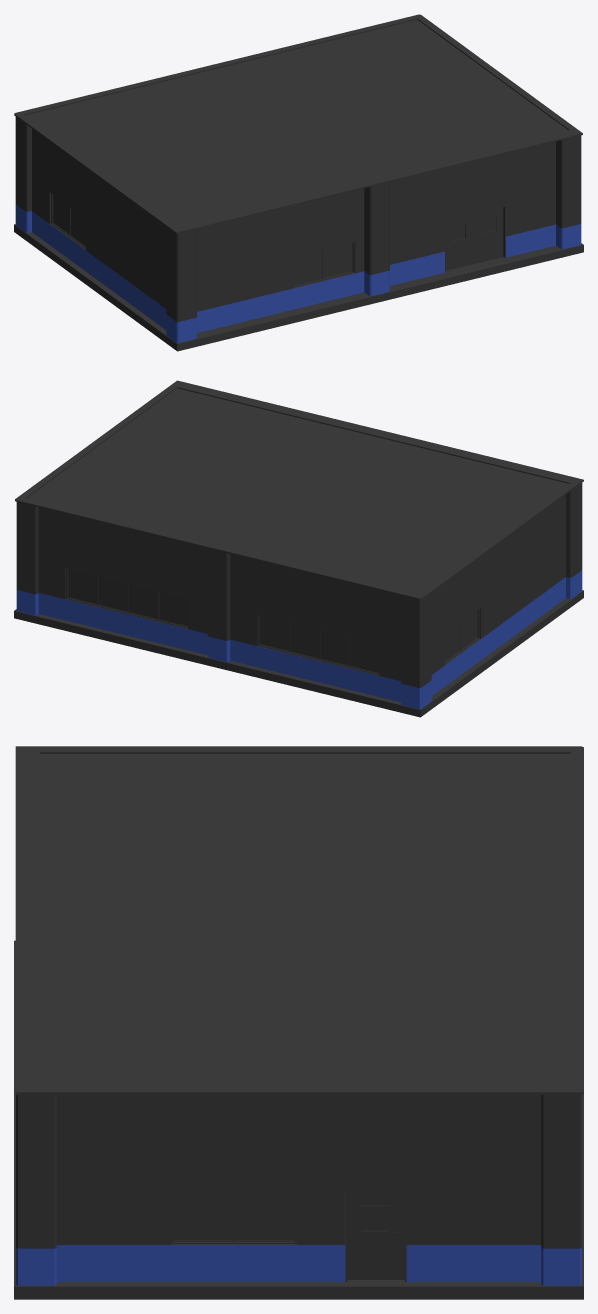
File: FXB_ChangJing_New.FBX
The picture shows the model from 3 angles, top to bottom: view 1: azimuth 30°, elevation 25°; view 2: azimuth 150°, elevation 25°; view 3: azimuth 270°, elevation 25°; orthographic projection. The views are drawn at different scales.
Parts seen in each view (by area): view 1: che_changjing_new, fangding, che_changjing_dimian, Men_02; view 2: che_changjing_new, fangding, che_changjing_dimian; view 3: fangding, che_changjing_new, che_changjing_dimian, Men_01, MenKuang_01.
Part boxes in pixels (x1,y1,x2,y2): che_changjing_new: (14,14,582,343); fangding: (25,19,567,225); che_changjing_dimian: (14,224,583,351); Men_02: (446,207,503,270); che_changjing_new: (15,380,583,709); fangding: (26,388,568,594); che_changjing_dimian: (14,590,583,717); fangding: (39,754,570,1086); che_changjing_new: (15,746,583,1285); che_changjing_dimian: (14,940,583,1299); Men_01: (347,1192,404,1279); MenKuang_01: (345,1189,406,1281).
Size of the model in its own units: 2012 by 561 by 1399.
